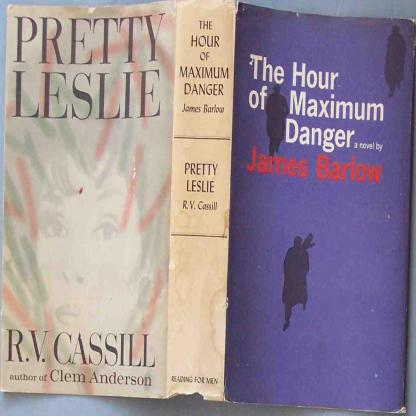book: (0, 0, 415, 409)
